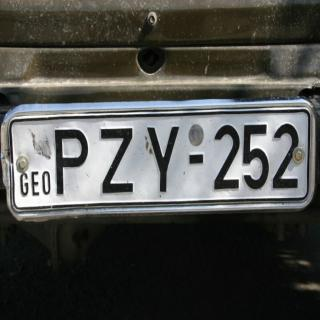license: (1, 100, 319, 226)
